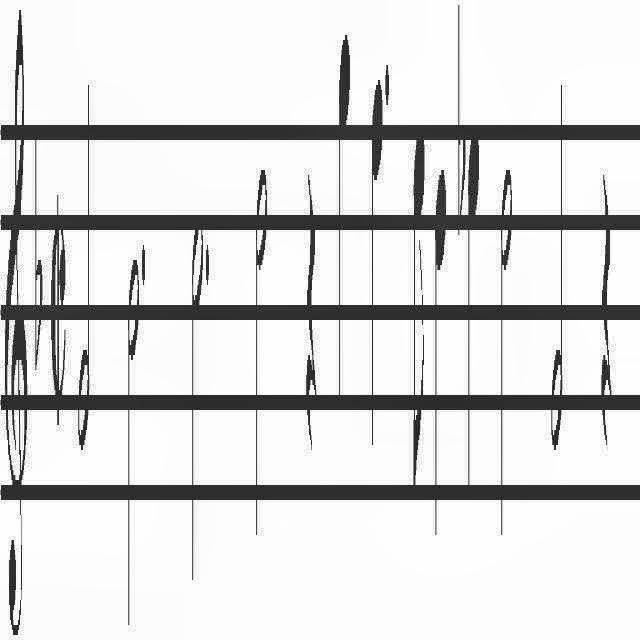Bass-clef: (2, 20, 28, 640)
Bemol: (32, 109, 44, 388), (454, 0, 467, 244)
Eighth-note: (412, 90, 428, 518)
Half-note: (74, 74, 94, 506), (546, 94, 568, 486), (496, 128, 514, 540), (188, 172, 204, 606), (125, 236, 142, 640), (254, 151, 270, 557)
Quarter-note: (334, 7, 354, 421), (431, 132, 449, 524), (465, 124, 483, 492), (370, 45, 382, 433)
Quarter-rest: (596, 161, 616, 447), (304, 148, 320, 472)
